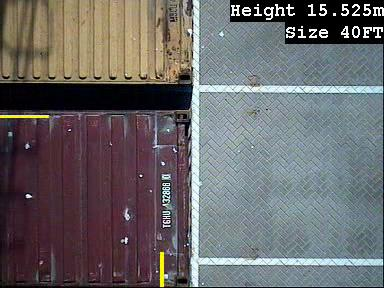groundmarker_2: (131, 84, 202, 122), (132, 229, 203, 267)
